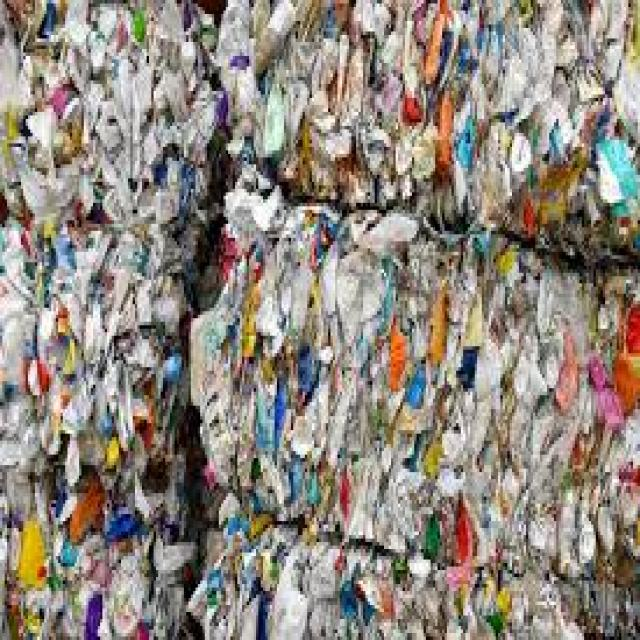cardboard: (13, 29, 636, 623)
